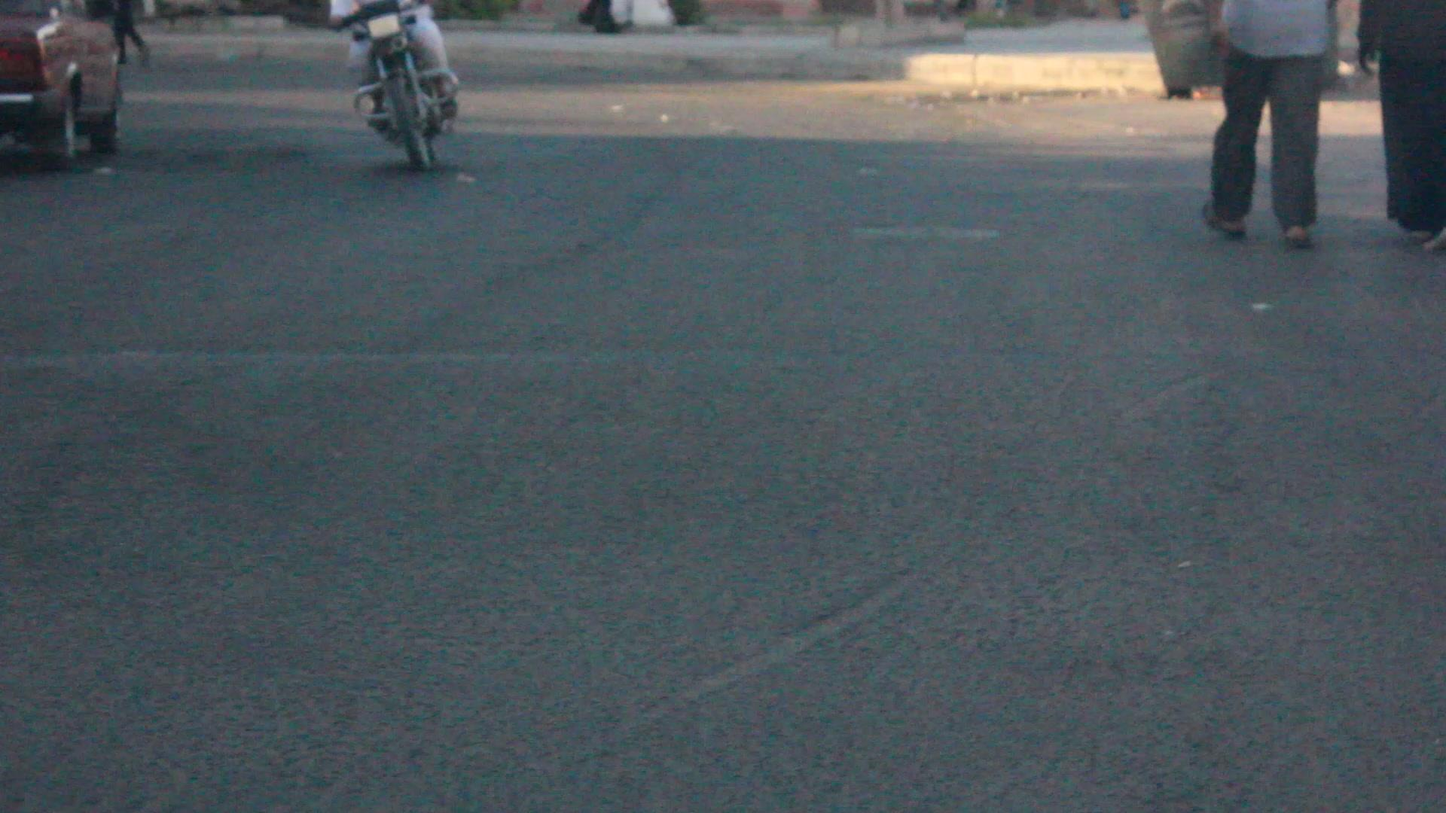Bump: (4, 343, 1446, 538)
